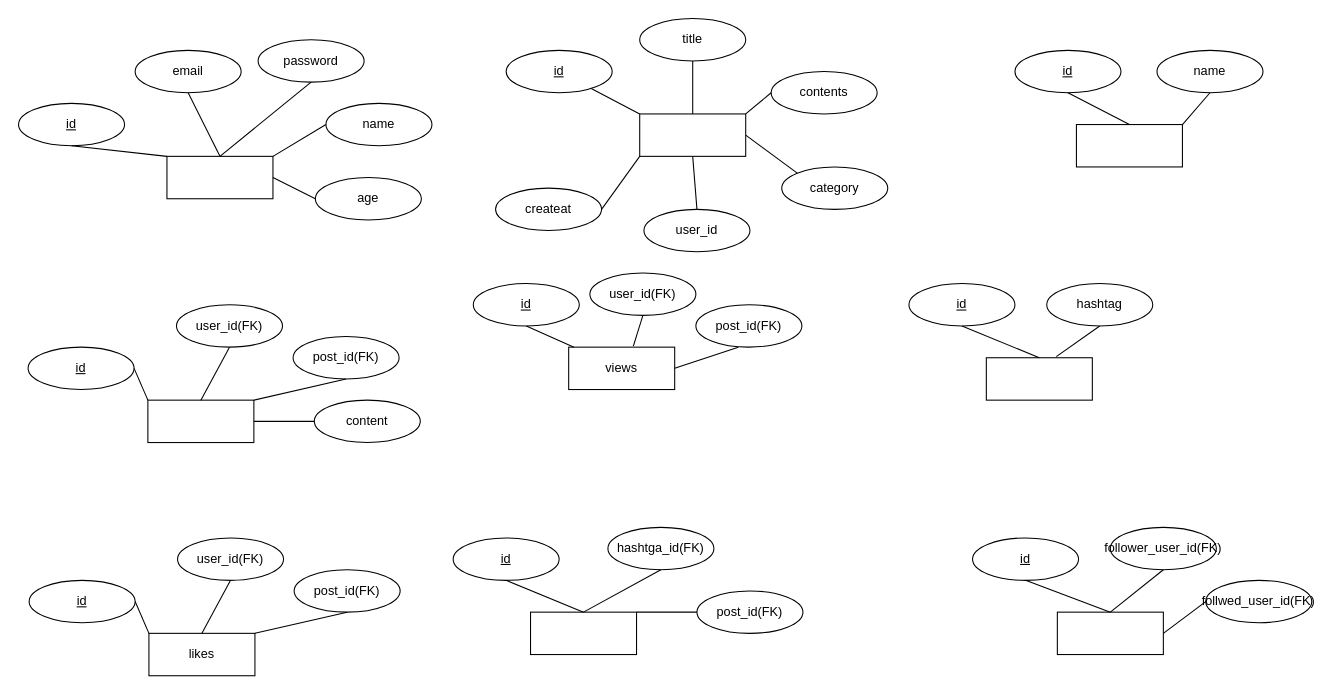
The diagram is 1333 pixels wide and 694 high, and some of its shapes have lost their labels. The shapes that lost their labels are listed below. From the top down, each one's centre as x and y in pixels, then its label:
At point 692,134: "posts".
At point 1128,145: "categories".
At point 219,177: "users".
At point 1038,378: "hashtags".
At point 200,421: "reports".
At point 583,633: "hashtags_posts".
At point 1109,633: "followers".
